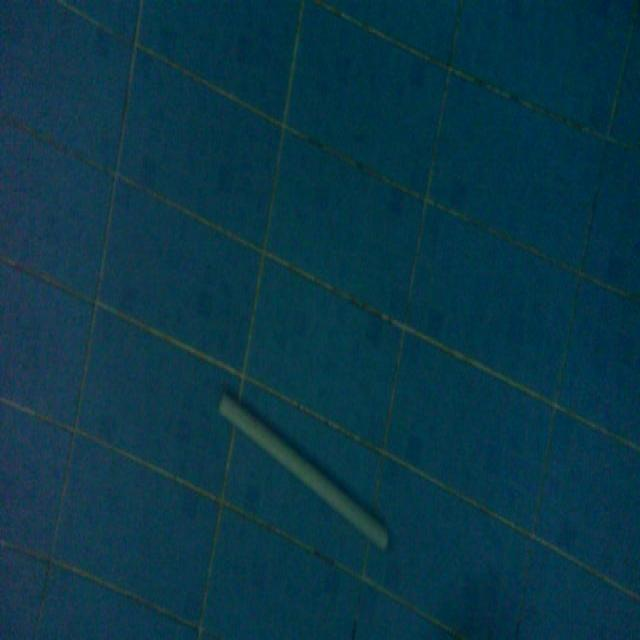Cube: (216, 386, 391, 554)
